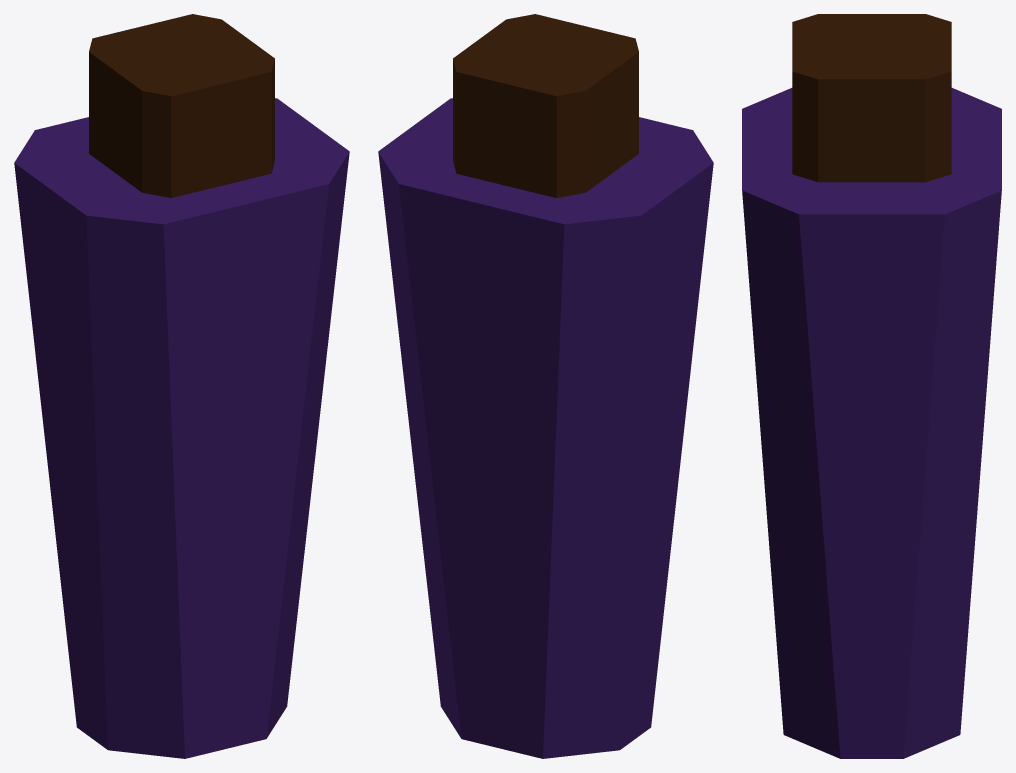
File: Bottle01.fbx
The picture shows the model from 3 angles, left to right: view 1: azimuth 30°, elevation 25°; view 2: azimuth 150°, elevation 25°; view 3: azimuth 270°, elevation 25°; orthographic projection.
Parts seen in each view (by area): view 1: Box001; view 2: Box001; view 3: Box001.
Boxes of the visible parts, bbox=[...] form: Box001: bbox=[14, 14, 349, 758]; Box001: bbox=[378, 14, 713, 758]; Box001: bbox=[742, 14, 1001, 758].
Bounding box in the file's own units: 11.1 × 26.66 × 9.4.
